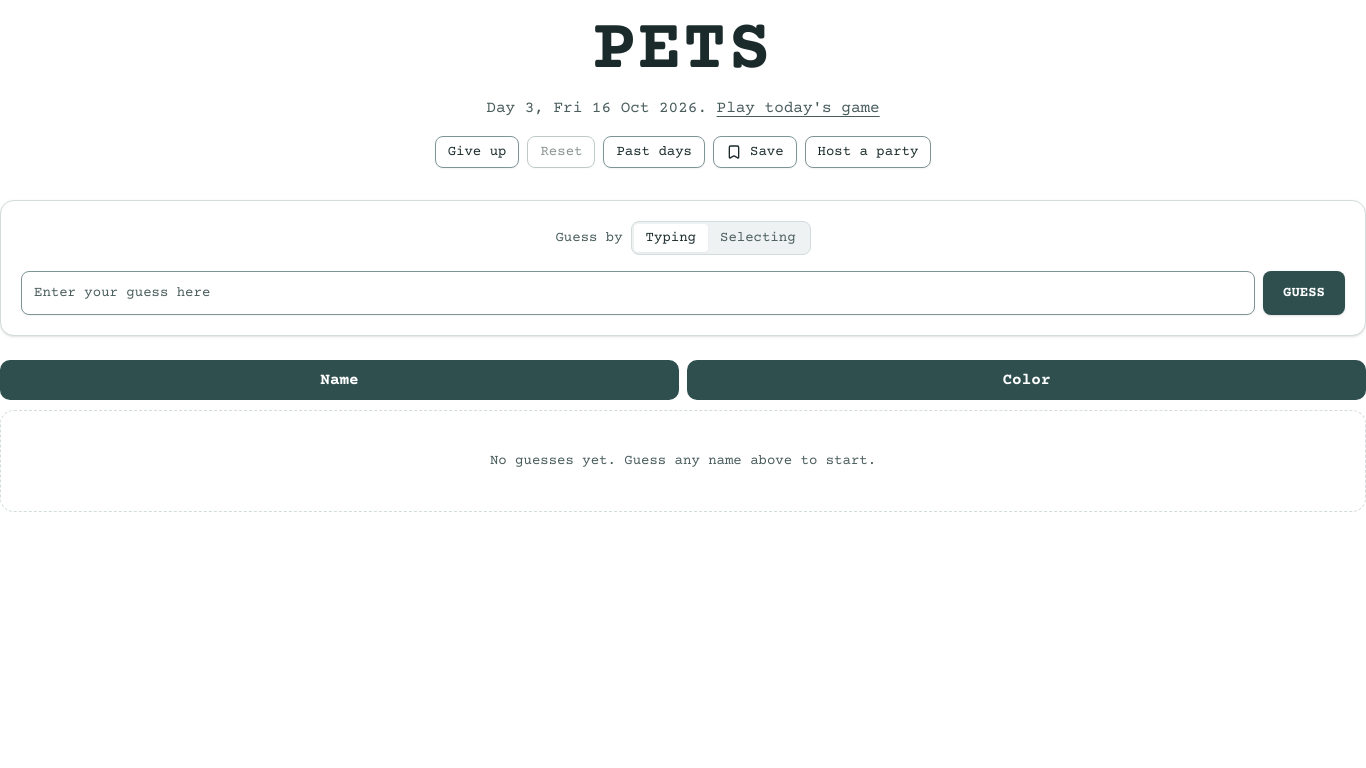
Test case: PlayPage on a past day › a past day's win records its stats for that day and can be reset
This screenshot has width=1366, height=768.
Expected: the text "No guesses yet. Guess any name above to start." is shown, [0,410,1365,512]
Type "Dido" into the dropdown named "Name". click: (638, 293)
box: [21,271,1255,315]
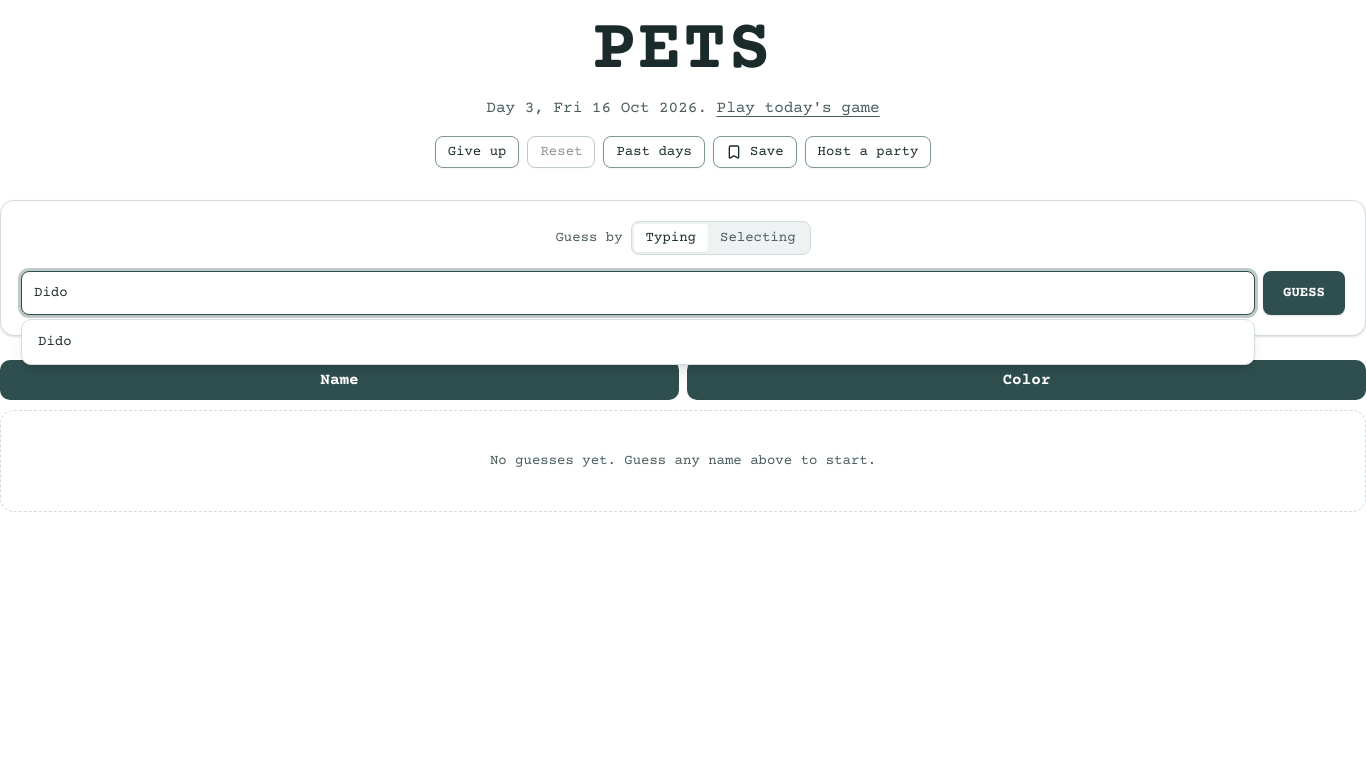
Click the button "Guess". click: (1304, 293)
box: [1263,271,1345,315]
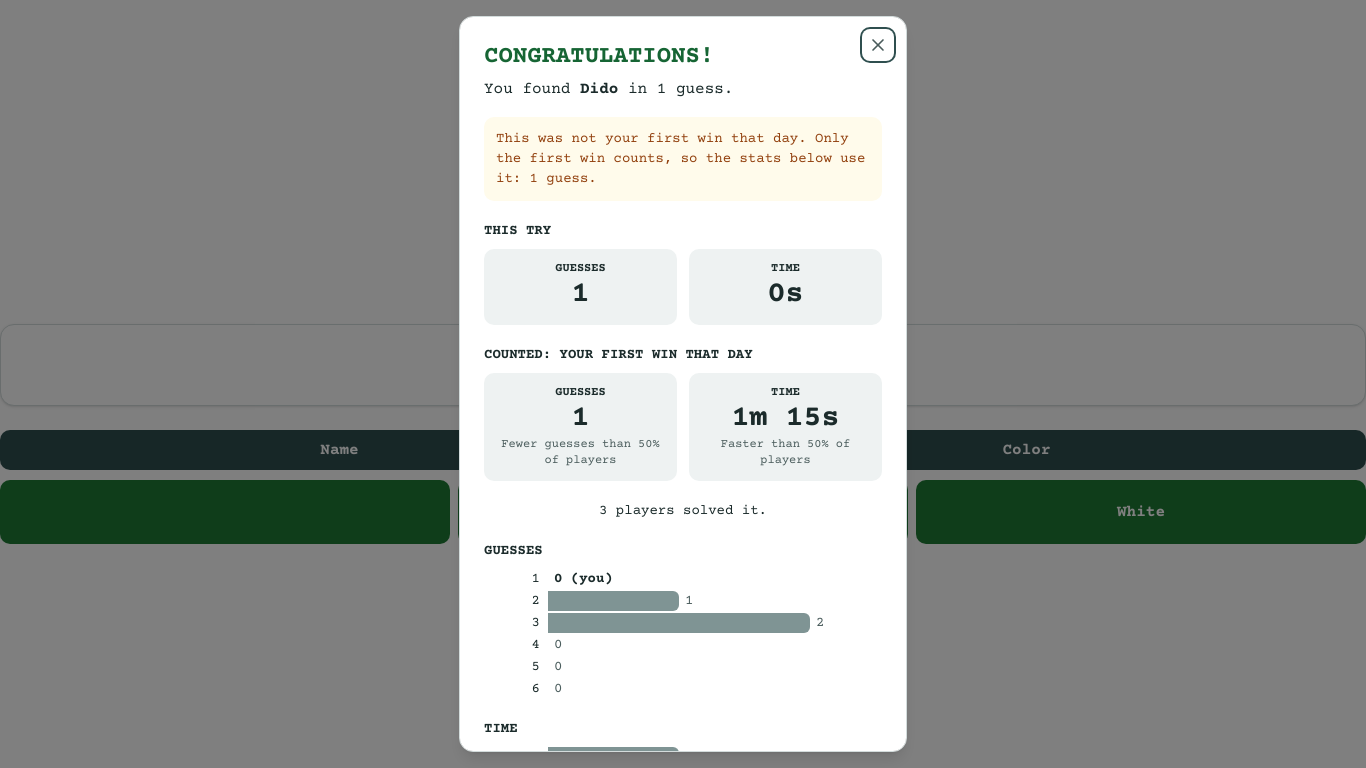
Expected: the dialog is shown, [459,16,907,752]
Expected: the text with id "stats-players" reads "3 players solved it.", [599,503,767,519]
Press Escape
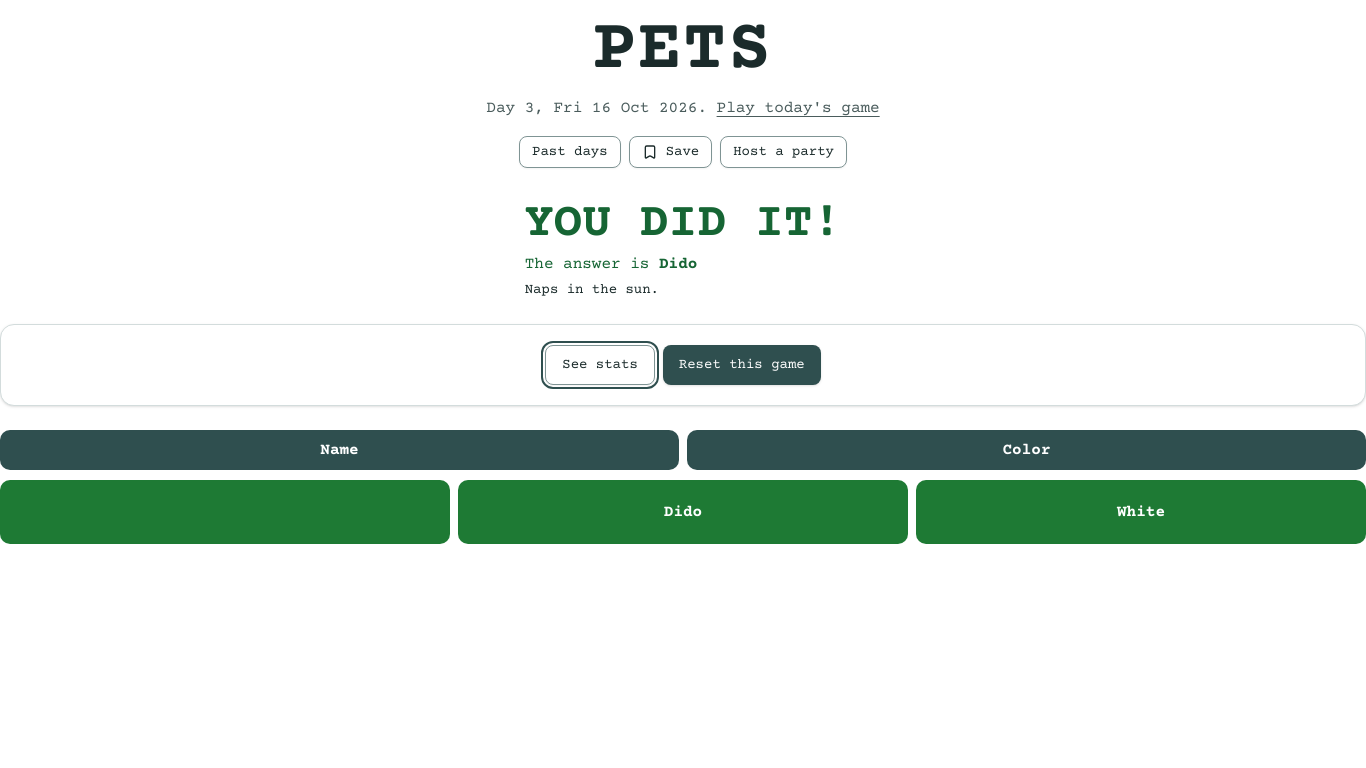
Expected: the button "See stats" is shown, [545,345,655,385]
Expected: the dialog is gone
Click the button "Reset this game". click: (742, 365)
box: [663,345,821,385]
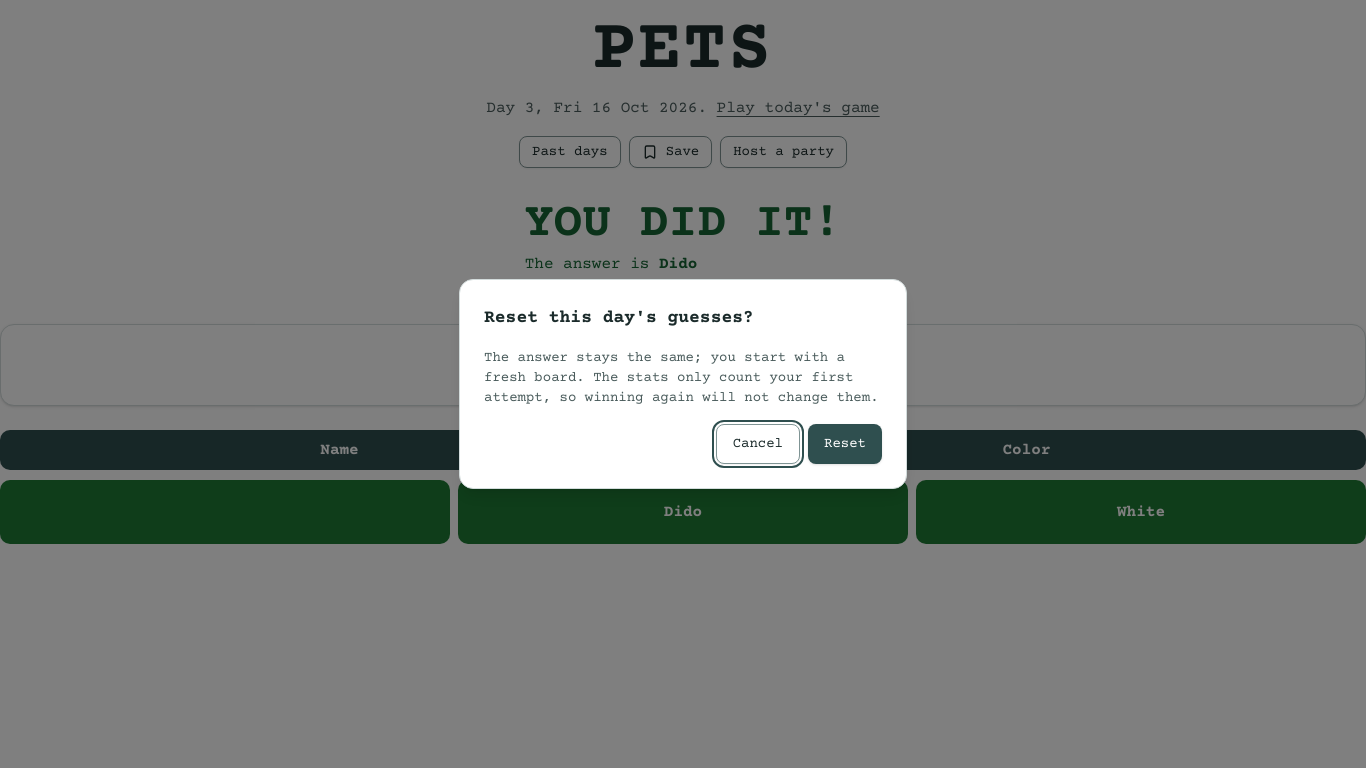
Expected: the dialog shows "Reset this day's guesses?", [484,308,754,328]
Expected: the dialog shows "only count your first attempt", [484,350,878,406]
Click the button "Reset". click: (845, 444)
box: [808,424,882,464]
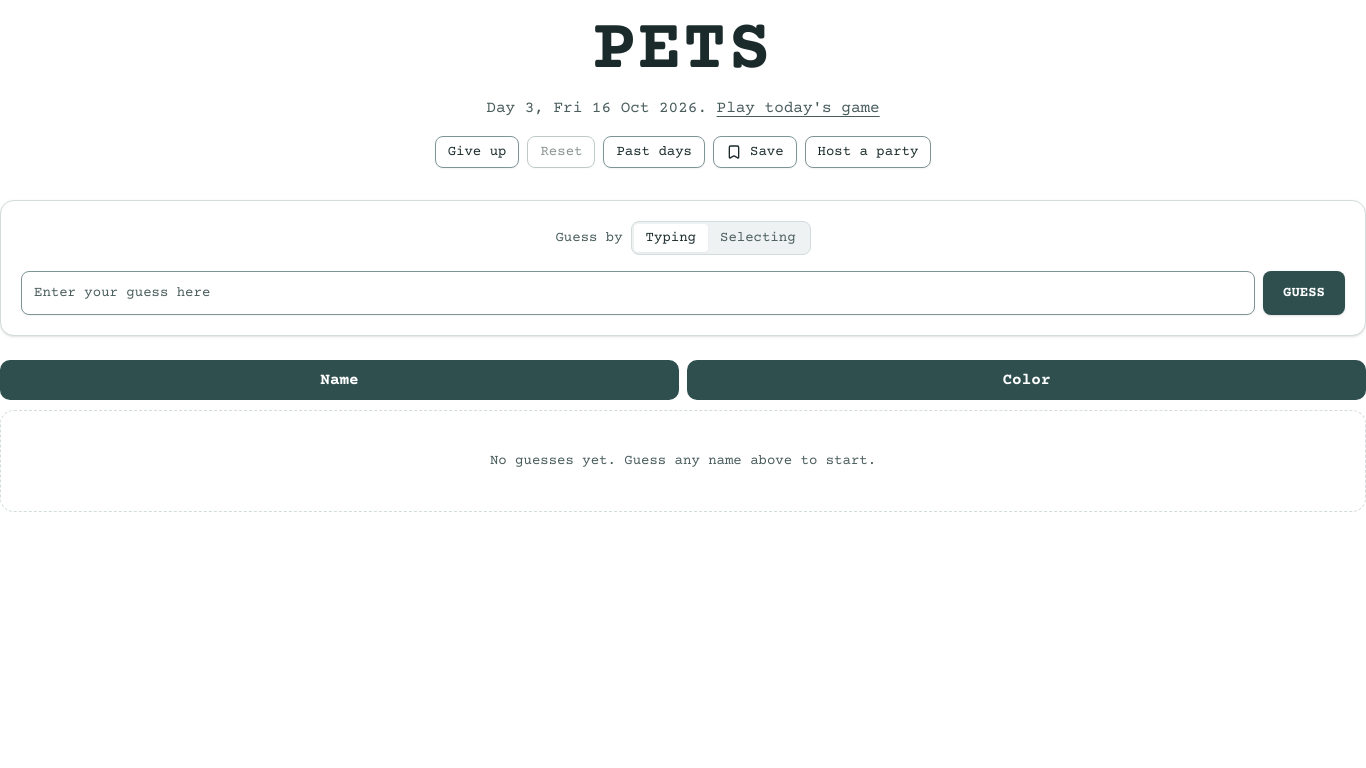
Expected: the text "No guesses yet. Guess any name above to start." is shown, [0,410,1365,512]
